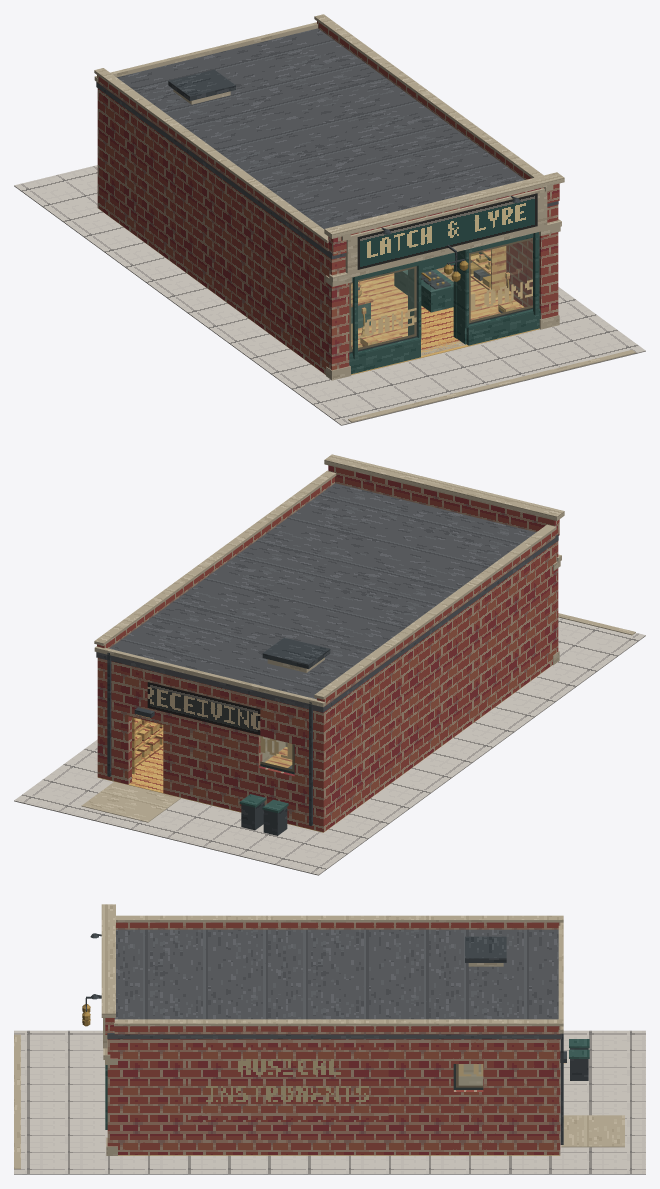
The model's file is latch-and-lyre-1920.glb.
The picture shows the model from 3 angles, top to bottom: view 1: azimuth 30°, elevation 25°; view 2: azimuth 150°, elevation 25°; view 3: azimuth 270°, elevation 25°; orthographic projection. The views are drawn at different scales.
Visible parts, largest first — view 1: shell, lot, sign_name, fixed_interior, display_window_east, display_window_west, display_jewellery, display_stock, display_east; view 2: shell, lot, fixed_interior, display_stock; view 3: shell, lot, fixed_interior.
Part boxes in pixels (box(x1,y1,x2,y2)): shell: box(94, 14, 564, 380); lot: box(14, 165, 645, 425); sign_name: box(357, 193, 537, 269); fixed_interior: box(98, 208, 539, 375); display_window_east: box(469, 237, 532, 324); display_window_west: box(349, 266, 417, 353); display_jewellery: box(394, 267, 453, 312); display_stock: box(351, 252, 516, 349); display_east: box(470, 246, 506, 297); shell: box(94, 454, 564, 832); lot: box(14, 613, 645, 875); fixed_interior: box(97, 665, 552, 832); display_stock: box(135, 718, 163, 763); shell: box(82, 904, 566, 1155); lot: box(14, 1030, 645, 1174); fixed_interior: box(118, 1064, 560, 1155).
Size of what is drawn, in the model's own units: 10.5 by 4.92 by 19.55.
Materials: 12 (12 with a texture image).
